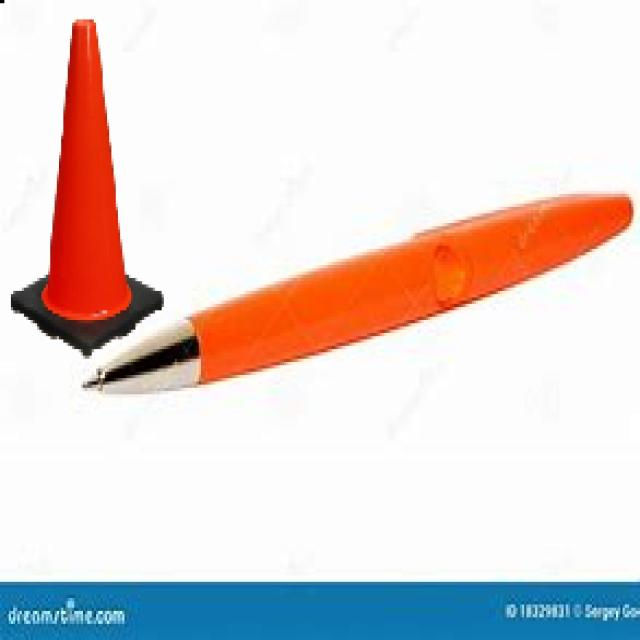traffic cone: (6, 16, 168, 365)
